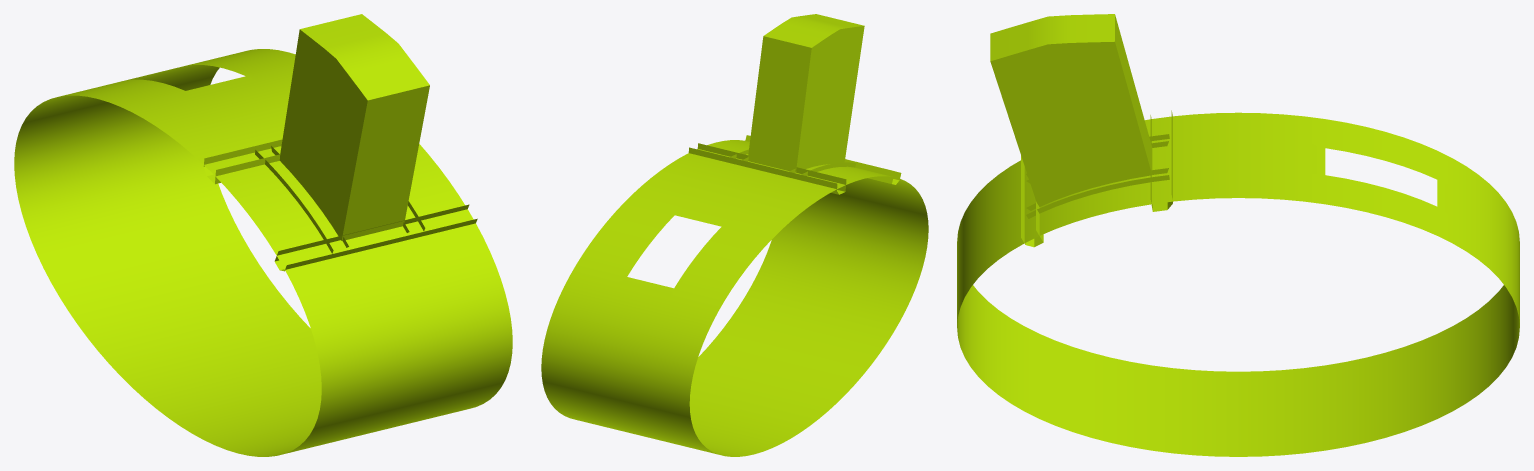
Rendered from WaterWork_DoorCut.fbx.
The picture shows the model from 3 angles, left to right: view 1: azimuth 30°, elevation 25°; view 2: azimuth 150°, elevation 25°; view 3: azimuth 270°, elevation 25°; orthographic projection. The views are drawn at different scales.
Visible parts, largest first — view 1: Tunnel_Cut, Duck, Bar, Side; view 2: Tunnel_Cut, Duck, Bar; view 3: Tunnel_Cut, Duck, Side, Bar.
Part boxes in pixels (bbox=[...]): Tunnel_Cut: bbox=[14, 49, 512, 456]; Duck: bbox=[279, 14, 429, 240]; Bar: bbox=[203, 139, 477, 271]; Side: bbox=[255, 146, 425, 253]; Tunnel_Cut: bbox=[541, 140, 928, 456]; Duck: bbox=[748, 14, 864, 172]; Bar: bbox=[688, 135, 901, 194]; Tunnel_Cut: bbox=[957, 112, 1519, 456]; Duck: bbox=[990, 14, 1152, 206]; Side: bbox=[1026, 134, 1169, 218]; Bar: bbox=[1021, 110, 1172, 247].
Size of the model in its own units: 500 by 1056 by 1395.
